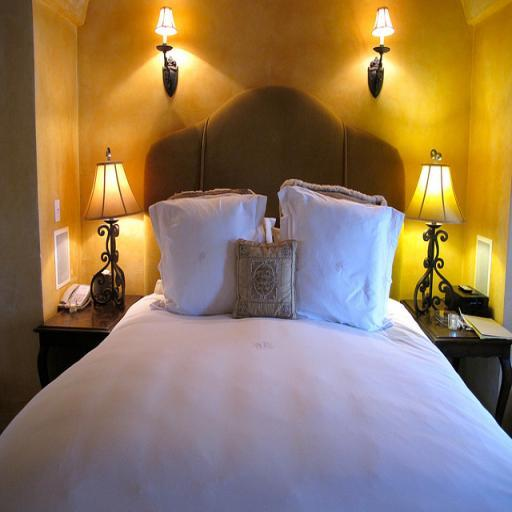bed: (30, 70, 483, 512)
